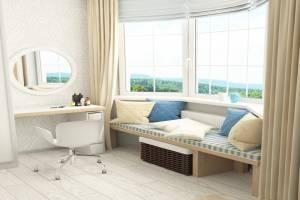window: (120, 0, 266, 103)
